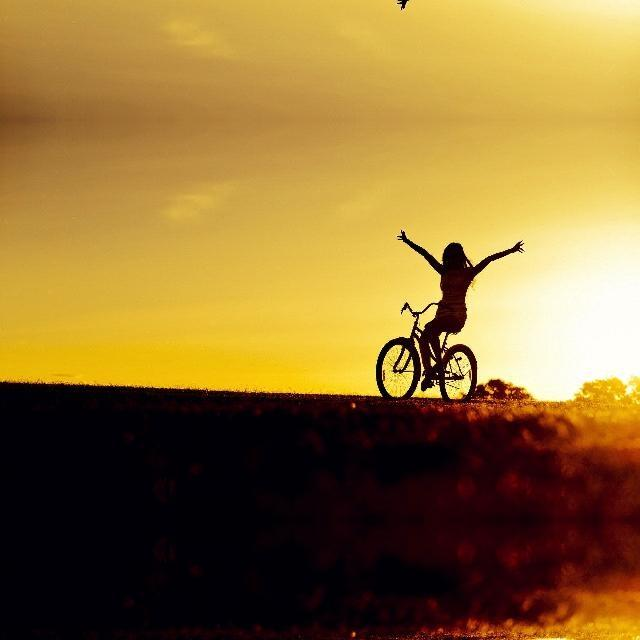obstacle: (362, 296, 493, 406), (362, 633, 493, 640)
